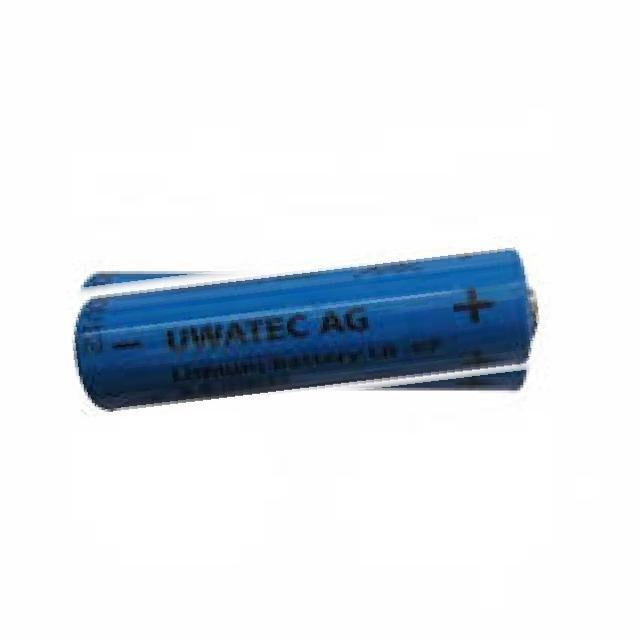Battery: (60, 235, 555, 418)
